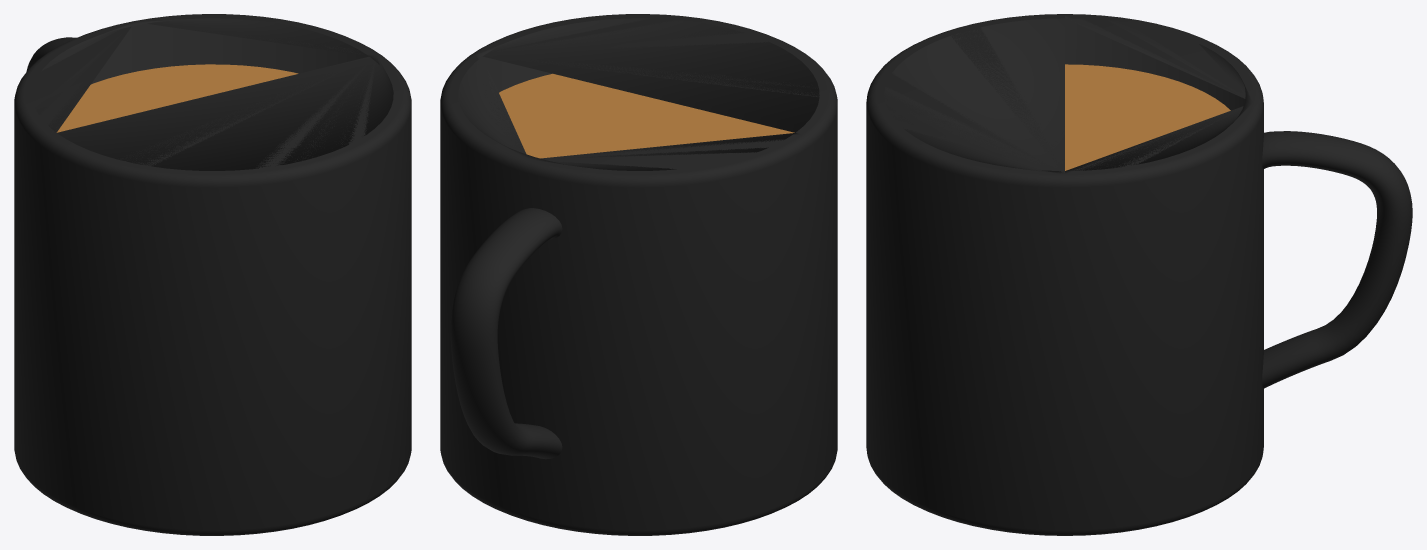
Rendered from coffee1_cup.fbx.
3 renders of one model, left to right at view 1: azimuth 30°, elevation 25°; view 2: azimuth 150°, elevation 25°; view 3: azimuth 270°, elevation 25°, orthographic.
Visible parts, largest first — view 1: Cylinder; view 2: Cylinder; view 3: Cylinder.
Boxes of the visible parts, <box> form: Cylinder: <box>14,14,411,535</box>; Cylinder: <box>440,14,837,535</box>; Cylinder: <box>866,14,1412,535</box>.
Bounding box in the file's own units: 40 × 40 × 54.96.
